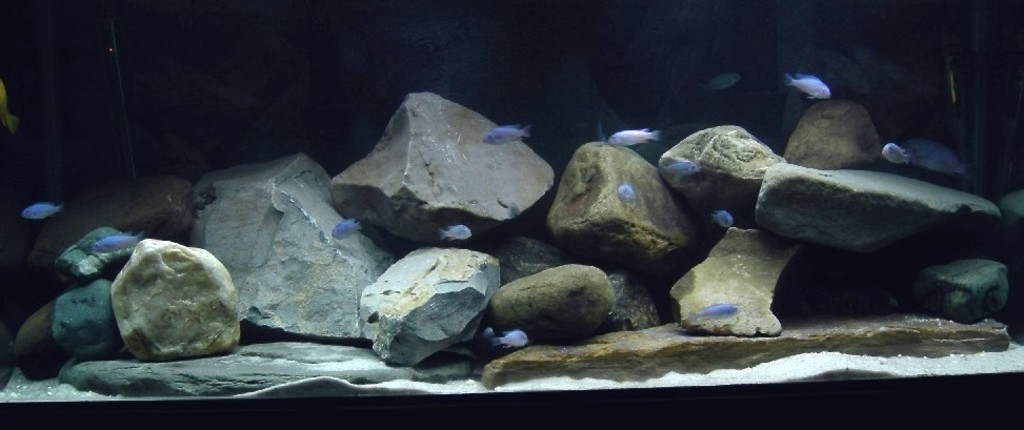Animal: (896, 144, 972, 177), (780, 69, 831, 103), (89, 231, 151, 253), (681, 297, 742, 319), (604, 123, 661, 144), (877, 139, 918, 165), (19, 200, 62, 224), (479, 122, 532, 141), (486, 329, 529, 349), (657, 159, 700, 177), (436, 220, 470, 242), (332, 218, 364, 240), (701, 74, 742, 90), (709, 209, 737, 227), (614, 184, 634, 203)
